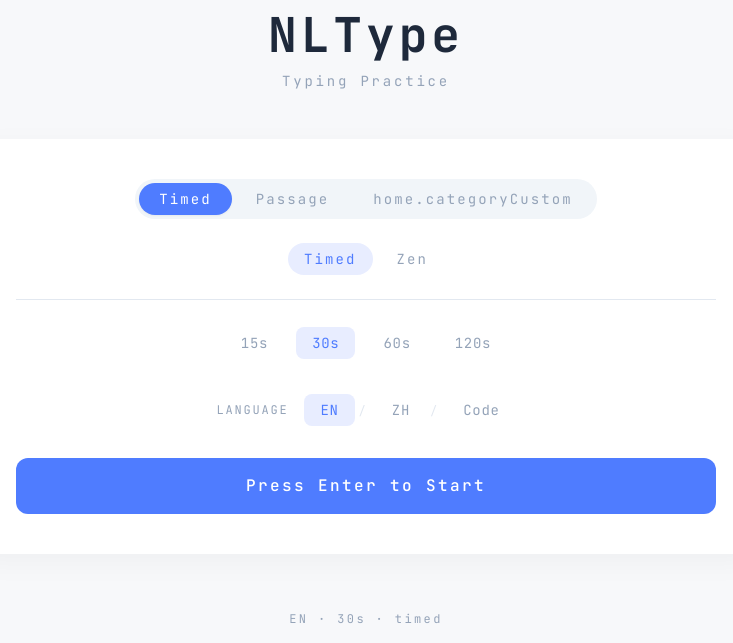
Test: HomePage › switches to passage modes on category click
The width and height of the screenshot is (733, 643).
What coordinates should you click on to do the following:
click the button "Passage"
I would click on:
 (293, 199)
Its box is [236,183,349,215].
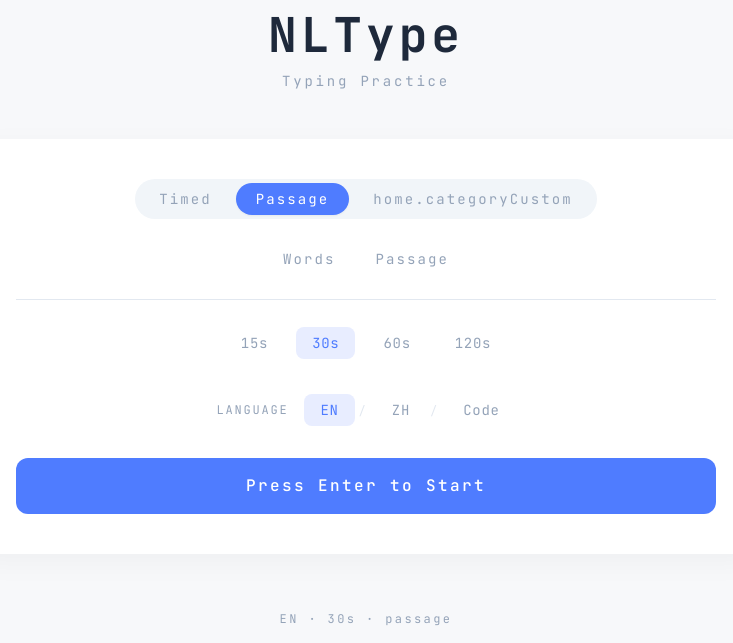
Result: the button "Words" is shown at [267,243,352,275]
